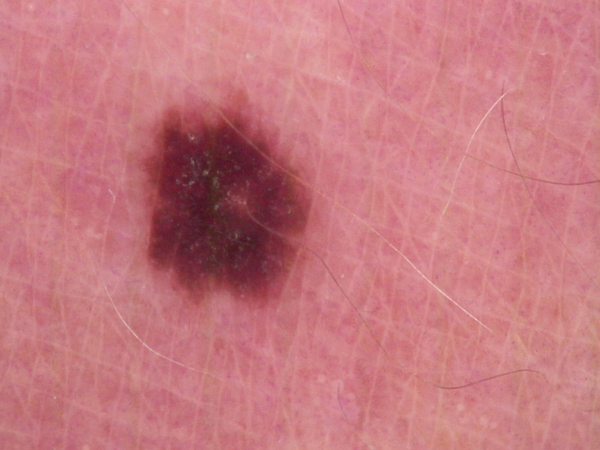Detected Lesion: (143, 87, 318, 310)
